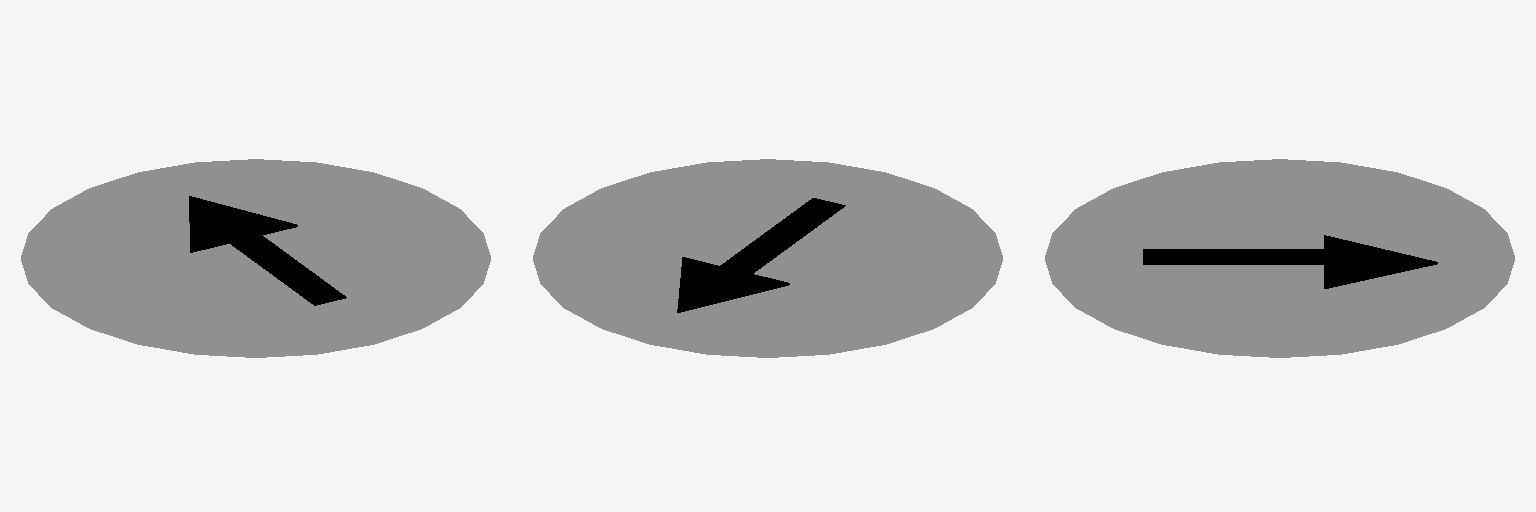
File: arrow.obj
3 renders of one model, left to right at view 1: azimuth 30°, elevation 25°; view 2: azimuth 150°, elevation 25°; view 3: azimuth 270°, elevation 25°, orthographic.
Parts seen in each view (by area): view 1: Cone001_Cone001Mesh, Box001_Box001Mesh, Prism001_Prism001Mesh; view 2: Cone001_Cone001Mesh, Box001_Box001Mesh, Prism001_Prism001Mesh; view 3: Cone001_Cone001Mesh, Box001_Box001Mesh, Prism001_Prism001Mesh.
Part boxes in pixels (x1,y1,x2,y2): Cone001_Cone001Mesh: (21, 159, 490, 357); Box001_Box001Mesh: (204, 217, 346, 305); Prism001_Prism001Mesh: (189, 196, 297, 252); Cone001_Cone001Mesh: (533, 159, 1002, 357); Box001_Box001Mesh: (703, 198, 845, 286); Prism001_Prism001Mesh: (677, 257, 789, 312); Cone001_Cone001Mesh: (1045, 159, 1514, 357); Box001_Box001Mesh: (1143, 249, 1364, 264); Prism001_Prism001Mesh: (1324, 235, 1437, 288).
Bounding box in the file's own units: 0.4522 × 0.0054 × 0.4522.